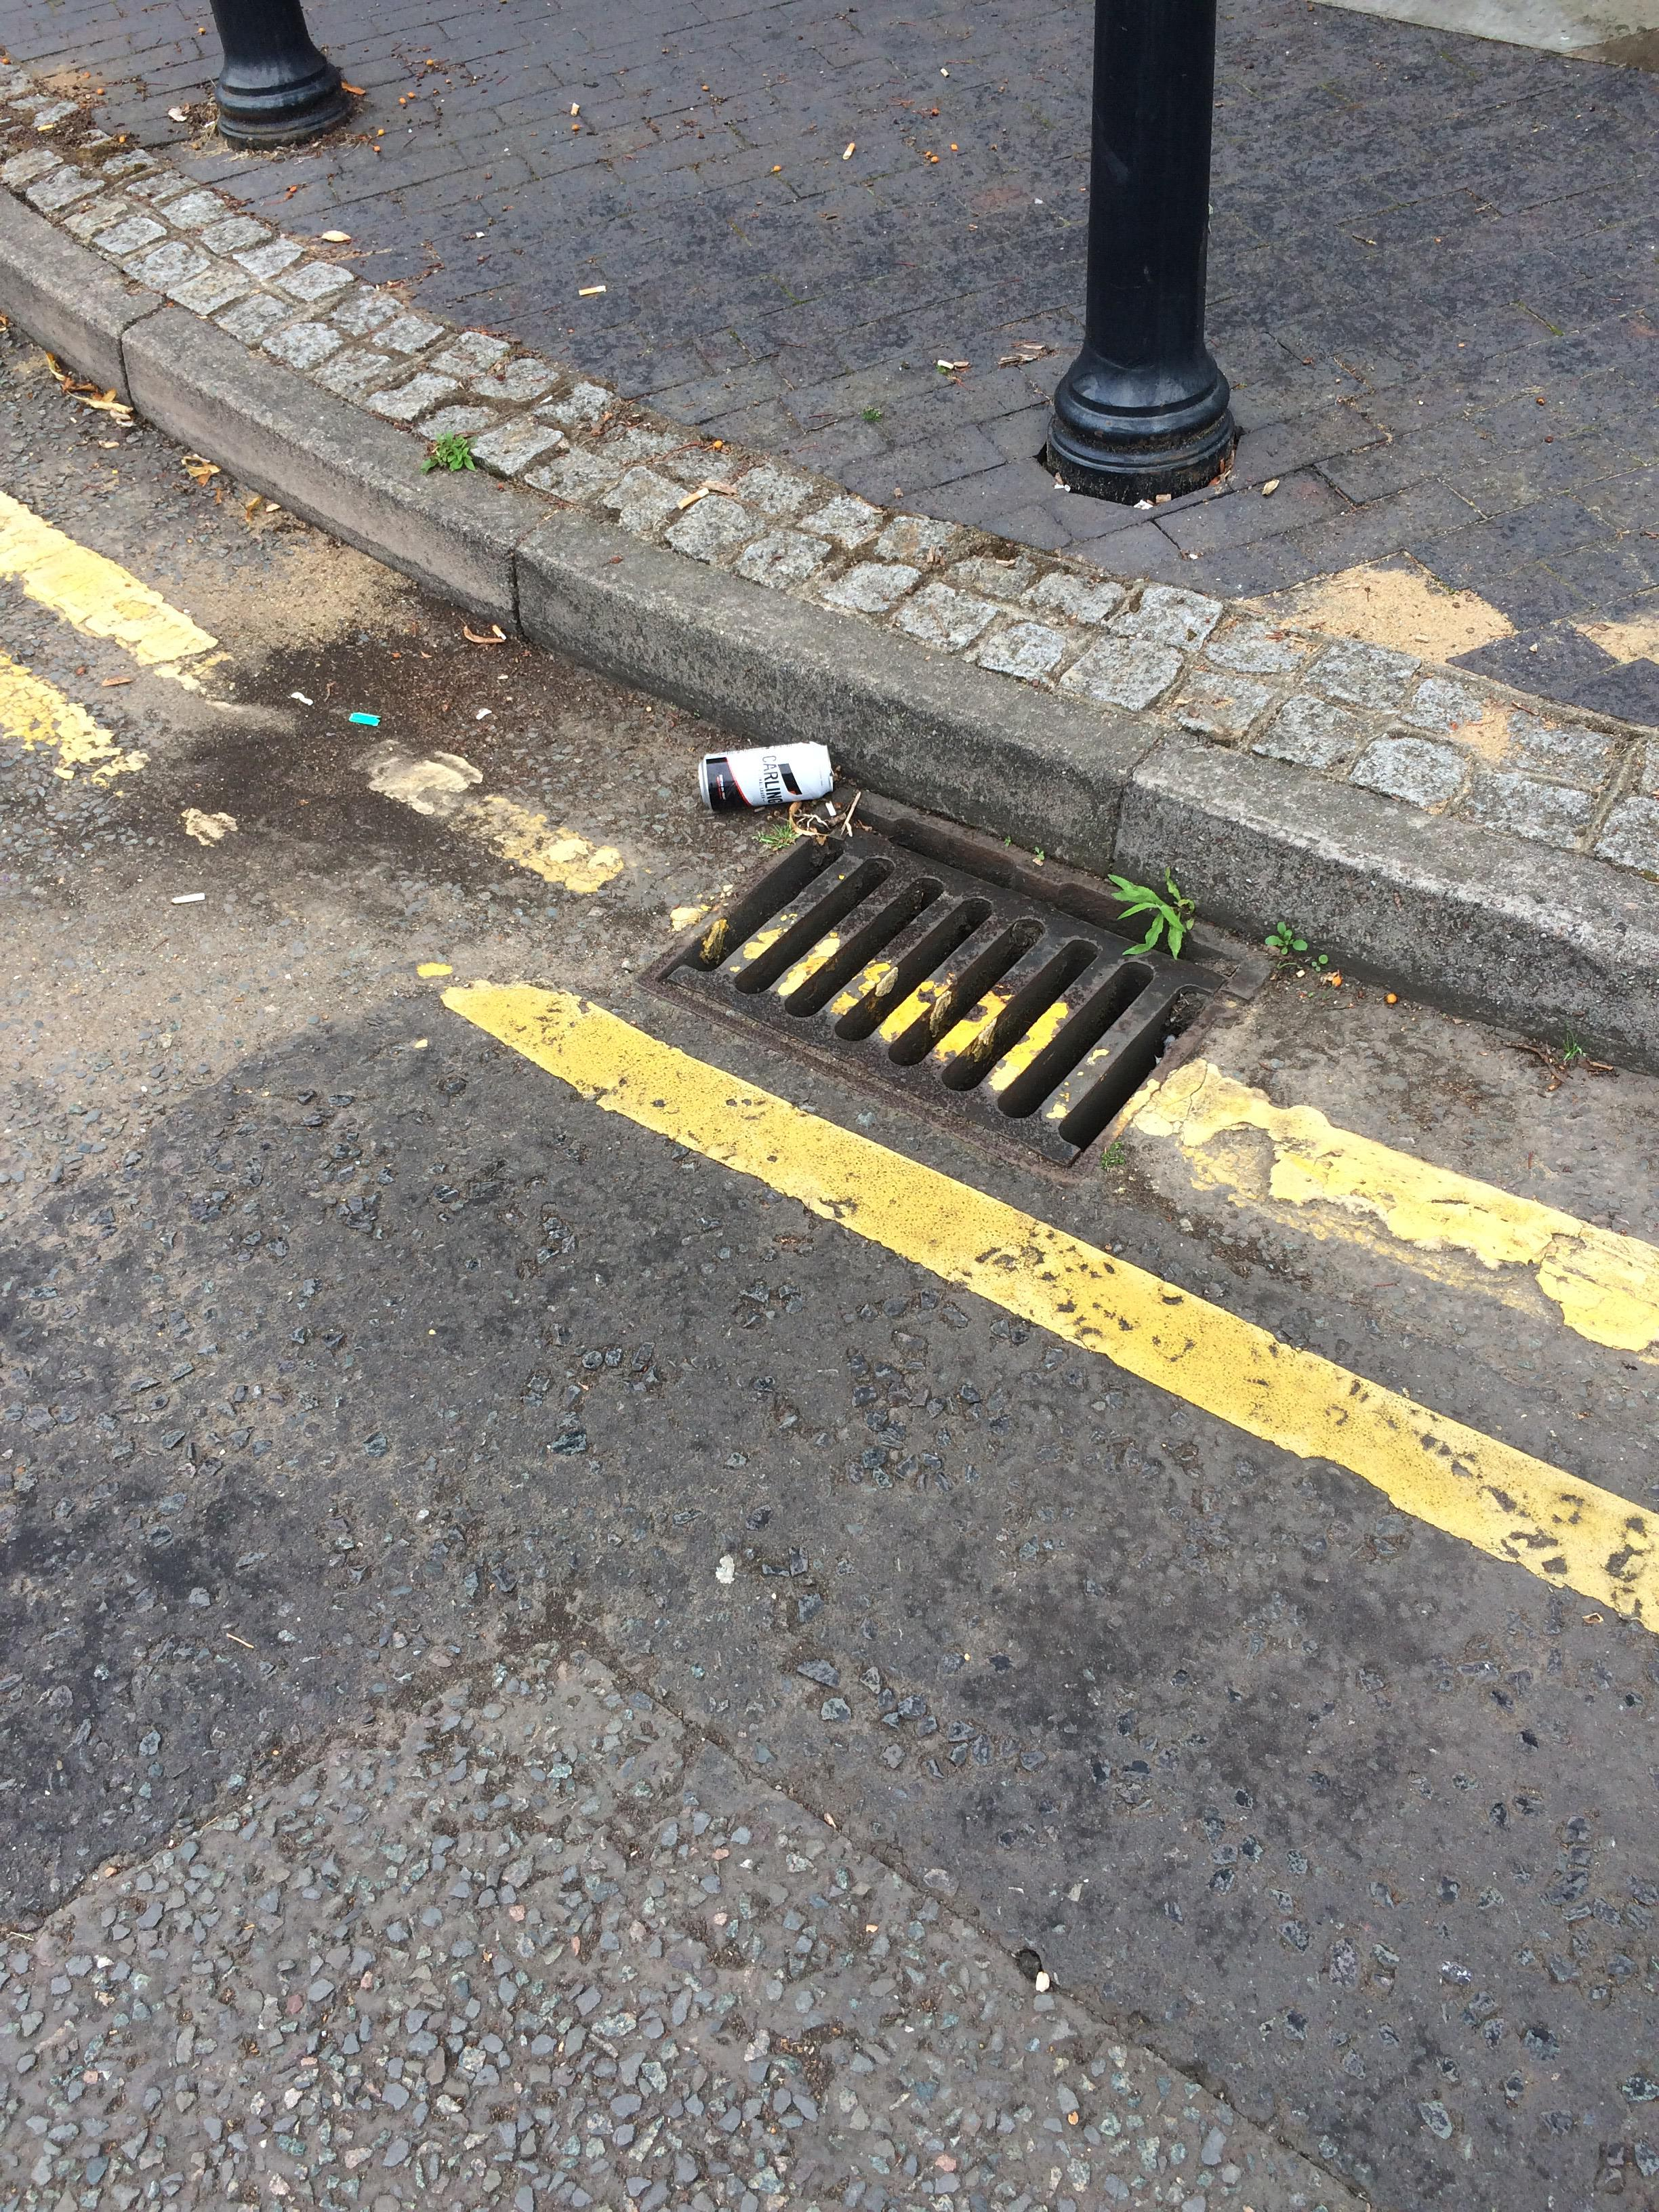Trash: (685, 740, 842, 817)
